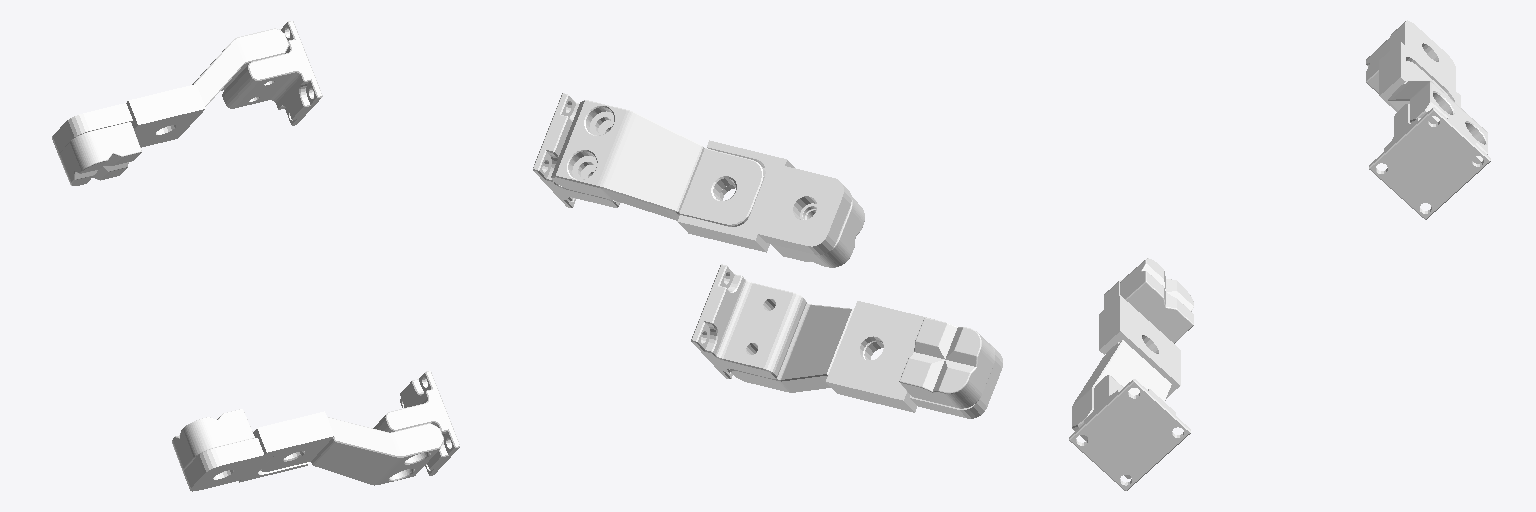
The robot description file, URDF, robot "panda":
<?xml version="1.0"?>
<!-- =================================================================================== -->
<!-- |    This document was autogenerated by xacro from panda_arm_hand.urdf.xacro      | -->
<!-- |    EDITING THIS FILE BY HAND IS NOT RECOMMENDED                                 | -->
<!-- =================================================================================== -->
<robot name="panda" xmlns:xacro="http://www.ros.org/wiki/xacro">
  <link name="panda_link0">
    <visual>
      <geometry>
        <mesh filename="meshes/meshes_franka_with_gripper_extensions/visual/link0.dae" />
      </geometry>
      <material name="panda_white">
        <color rgba="1. 1. 1. 1." />
      </material>
    </visual>
    <collision>
      <geometry>
        <mesh filename="meshes/meshes_franka_with_gripper_extensions/collision/link0.stl" />
      </geometry>
      <material name="panda_white" />
    </collision>
  </link>
  <link name="panda_link1">
    <inertial>
      <origin rpy="0 0 0" xyz="0 -0.04 -0.05" />
      <mass value="2.7" />
      <inertia ixx="0.1" ixy="0" ixz="0" iyy="0.1" iyz="0" izz="0.1" />
    </inertial>
    <visual>
      <geometry>
        <mesh filename="meshes/meshes_franka_with_gripper_extensions/visual/link1.dae" />
      </geometry>
      <material name="panda_white" />
    </visual>
    <collision>
      <geometry>
        <mesh filename="meshes/meshes_franka_with_gripper_extensions/collision/link1.stl" />
      </geometry>
      <material name="panda_white" />
    </collision>
  </link>
  <joint name="panda_joint1" type="revolute">
    <safety_controller k_position="100.0" k_velocity="40.0" soft_lower_limit="-2.8973"
      soft_upper_limit="2.8973" />
    <origin rpy="0 0 0" xyz="0 0 0.333" />
    <parent link="panda_link0" />
    <child link="panda_link1" />
    <axis xyz="0 0 1" />
    <limit effort="87" lower="-2.8973" upper="2.8973" velocity="2.1750" />
  </joint>
  <link name="panda_link2">
    <inertial>
      <origin rpy="0 0 0" xyz="0 -0.04 0.06" />
      <mass value="2.73" />
      <inertia ixx="0.1" ixy="0" ixz="0" iyy="0.1" iyz="0" izz="0.1" />
    </inertial>
    <visual>
      <geometry>
        <mesh filename="meshes/meshes_franka_with_gripper_extensions/visual/link2.dae" />
      </geometry>
      <material name="panda_white" />
    </visual>
    <collision>
      <geometry>
        <mesh filename="meshes/meshes_franka_with_gripper_extensions/collision/link2.stl" />
      </geometry>
      <material name="panda_white" />
    </collision>
  </link>
  <joint name="panda_joint2" type="revolute">
    <safety_controller k_position="100.0" k_velocity="40.0" soft_lower_limit="-1.7628"
      soft_upper_limit="1.7628" />
    <origin rpy="-1.57079632679 0 0" xyz="0 0 0" />
    <parent link="panda_link1" />
    <child link="panda_link2" />
    <axis xyz="0 0 1" />
    <limit effort="87" lower="-1.7628" upper="1.7628" velocity="2.1750" />
  </joint>
  <link name="panda_link3">
    <inertial>
      <origin rpy="0 0 0" xyz="0.01 0.01 -0.05" />
      <mass value="2.04" />
      <inertia ixx="0.1" ixy="0" ixz="0" iyy="0.1" iyz="0" izz="0.1" />
    </inertial>
    <visual>
      <geometry>
        <mesh filename="meshes/meshes_franka_with_gripper_extensions/visual/link3.dae" />
      </geometry>
      <material name="panda_red">
        <color rgba="1. 1. 1. 1." />
      </material>
    </visual>
    <collision>
      <geometry>
        <mesh filename="meshes/meshes_franka_with_gripper_extensions/collision/link3.stl" />
      </geometry>
    </collision>
  </link>
  <joint name="panda_joint3" type="revolute">
    <safety_controller k_position="100.0" k_velocity="40.0" soft_lower_limit="-2.8973"
      soft_upper_limit="2.8973" />
    <origin rpy="1.57079632679 0 0" xyz="0 -0.316 0" />
    <parent link="panda_link2" />
    <child link="panda_link3" />
    <axis xyz="0 0 1" />
    <limit effort="87" lower="-2.8973" upper="2.8973" velocity="2.1750" />
  </joint>
  <link name="panda_link4">
    <inertial>
      <origin rpy="0 0 0" xyz="-0.03 0.03 0.02" />
      <mass value="2.08" />
      <inertia ixx="0.1" ixy="0" ixz="0" iyy="0.1" iyz="0" izz="0.1" />
    </inertial>
    <visual>
      <geometry>
        <mesh filename="meshes/meshes_franka_with_gripper_extensions/visual/link4.dae" />
      </geometry>
      <material name="panda_white" />
    </visual>
    <collision>
      <geometry>
        <mesh filename="meshes/meshes_franka_with_gripper_extensions/collision/link4.stl" />
      </geometry>
      <material name="panda_white" />
    </collision>
  </link>
  <joint name="panda_joint4" type="revolute">
    <safety_controller k_position="100.0" k_velocity="40.0" soft_lower_limit="-3.0718"
      soft_upper_limit="-0.0698" />
    <origin rpy="1.57079632679 0 0" xyz="0.0825 0 0" />
    <parent link="panda_link3" />
    <child link="panda_link4" />
    <axis xyz="0 0 1" />
    <limit effort="87" lower="-3.0718" upper="-0.0698" velocity="2.1750" />
  </joint>
  <link name="panda_link5">
    <inertial>
      <origin rpy="0 0 0" xyz="0 0.04 -0.12" />
      <mass value="3" />
      <inertia ixx="0.1" ixy="0" ixz="0" iyy="0.1" iyz="0" izz="0.1" />
    </inertial>
    <visual>
      <geometry>
        <mesh filename="meshes/meshes_franka_with_gripper_extensions/visual/link5.dae" />
      </geometry>
      <material name="panda_white" />
    </visual>
    <collision>
      <geometry>
        <mesh filename="meshes/meshes_franka_with_gripper_extensions/collision/link5.stl" />
      </geometry>
      <material name="panda_white" />
    </collision>
  </link>
  <joint name="panda_joint5" type="revolute">
    <safety_controller k_position="100.0" k_velocity="40.0" soft_lower_limit="-2.8975"
      soft_upper_limit="2.8975" />
    <origin rpy="-1.57079632679 0 0" xyz="-0.0825 0.384 0" />
    <parent link="panda_link4" />
    <child link="panda_link5" />
    <axis xyz="0 0 1" />
    <limit effort="12" lower="-2.8975" upper="2.8975" velocity="2.6100" />
  </joint>
  <link name="panda_link6">
    <inertial>
      <origin rpy="0 0 0" xyz="0.04 0 0" />
      <mass value="1.3" />
      <inertia ixx="0.1" ixy="0" ixz="0" iyy="0.1" iyz="0" izz="0.1" />
    </inertial>
    <visual>
      <geometry>
        <mesh filename="meshes/meshes_franka_with_gripper_extensions/visual/link6.dae" />
      </geometry>
      <material name="panda_white" />
    </visual>
    <collision>
      <geometry>
        <mesh filename="meshes/meshes_franka_with_gripper_extensions/collision/link6.stl" />
      </geometry>
      <material name="panda_white" />
    </collision>
  </link>
  <joint name="panda_joint6" type="revolute">
    <safety_controller k_position="100.0" k_velocity="40.0" soft_lower_limit="-0.0175"
      soft_upper_limit="3.7525" />
    <origin rpy="1.57079632679 0 0" xyz="0 0 0" />
    <parent link="panda_link5" />
    <child link="panda_link6" />
    <axis xyz="0 0 1" />
    <limit effort="12" lower="-0.0175" upper="3.7525" velocity="2.6100" />
  </joint>
  <link name="panda_link7">
    <inertial>
      <origin rpy="0 0 0" xyz="0 0 0.08" />
      <mass value=".2" />
      <inertia ixx="0.1" ixy="0" ixz="0" iyy="0.1" iyz="0" izz="0.1" />
    </inertial>
    <visual>
      <geometry>
        <mesh filename="meshes/meshes_franka_with_gripper_extensions/visual/link7.dae" />
      </geometry>
      <material name="panda_white" />
    </visual>
    <collision>
      <geometry>
        <mesh filename="meshes/meshes_franka_with_gripper_extensions/collision/link7.stl" />
      </geometry>
      <material name="panda_white" />
    </collision>
  </link>
  <joint name="panda_joint7" type="revolute">
    <safety_controller k_position="100.0" k_velocity="40.0" soft_lower_limit="-2.8973"
      soft_upper_limit="2.8973" />
    <origin rpy="1.57079632679 0 0" xyz="0.088 0 0" />
    <parent link="panda_link6" />
    <child link="panda_link7" />
    <axis xyz="0 0 1" />
    <limit effort="12" lower="-2.8973" upper="2.8973" velocity="2.6100" />
  </joint>
  <link name="panda_link8">
    <inertial>
      <origin rpy="0 0 0" xyz="0 0 0" />
      <mass value="0.0" />
      <inertia ixx="0.1" ixy="0" ixz="0" iyy="0.1" iyz="0" izz="0.1" />
    </inertial>
    <!-- <visual>
      <geometry>
        <mesh filename="meshes/meshes_franka_with_gripper_extensions/collision/camera.stl" />
      </geometry>
      <material name="panda_white" />
    </visual>
    <collision>
      <geometry>
        <mesh filename="meshes/meshes_franka_with_gripper_extensions/collision/camera.stl" />
      </geometry>
      <material name="panda_white" />
    </collision> -->
  </link>
  <joint name="panda_joint8" type="fixed">
    <origin rpy="0 0 -0.785398163397" xyz="0 0 0.107" />
    <parent link="panda_link7" />
    <child link="panda_link8" />
    <axis xyz="0 0 0" />
  </joint>
  <joint name="panda_hand_joint" type="fixed">
    <parent link="panda_link8" />
    <child link="panda_hand" />
    <origin rpy="0 0 0" xyz="0 0 0.006" />
  </joint>
  <link name="panda_hand">
    <inertial>
      <origin rpy="0 0 0" xyz="0 0 0.04" />
      <mass value=".81" />
      <inertia ixx="0.1" ixy="0" ixz="0" iyy="0.1" iyz="0" izz="0.1" />
    </inertial>
    <visual>
      <geometry>
        <mesh filename="meshes/meshes_franka_with_gripper_extensions/visual/hand.dae" />
      </geometry>
      <material name="panda_white" />
    </visual>
    <collision>
      <geometry>
        <mesh filename="meshes/meshes_franka_with_gripper_extensions/collision/hand.stl" />
      </geometry>
      <material name="panda_white" />
    </collision>
  </link>
  <link name="panda_leftfinger">
    <contact>
      <friction_anchor />
      <stiffness value="30000.0" />
      <damping value="1000.0" />
      <spinning_friction value="0.1" />
      <lateral_friction value="1.0" />
    </contact>
    <inertial>
      <origin rpy="0 0 0" xyz="0 0.01 0.02" />
      <mass value="0.1" />
      <inertia ixx="0.1" ixy="0" ixz="0" iyy="0.1" iyz="0" izz="0.1" />
    </inertial>
    <visual>
      <geometry>
        <mesh filename="meshes/meshes_franka_with_gripper_extensions/collision/finger.stl" />
      </geometry>
      <material name="panda_white" />
    </visual>
    <collision>
      <geometry>
        <mesh filename="meshes/meshes_franka_with_gripper_extensions/collision/finger.stl" />
      </geometry>
      <material name="panda_white" />
    </collision>
  </link>
  <link name="panda_rightfinger">
    <contact>
      <friction_anchor />
      <stiffness value="30000.0" />
      <damping value="1000.0" />
      <spinning_friction value="0.1" />
      <lateral_friction value="1.0" />
    </contact>

    <inertial>
      <origin rpy="0 0 0" xyz="0 -0.01 0.02" />
      <mass value="0.1" />
      <inertia ixx="0.1" ixy="0" ixz="0" iyy="0.1" iyz="0" izz="0.1" />
    </inertial>
    <visual>
      <origin rpy="0 0 3.14159265359" xyz="0 0 0" />
      <geometry>
        <mesh filename="meshes/meshes_franka_with_gripper_extensions/collision/finger.stl" />
      </geometry>
      <material name="panda_white" />
    </visual>
    <collision>
      <origin rpy="0 0 3.14159265359" xyz="0 0 0" />
      <geometry>
        <mesh filename="meshes/meshes_franka_with_gripper_extensions/collision/finger.stl" />
      </geometry>
      <material name="panda_white" />
    </collision>
  </link>
  <joint name="panda_finger_joint1" type="prismatic">
    <parent link="panda_hand" />
    <child link="panda_leftfinger" />
    <origin rpy="0 -1.5708 1.5708" xyz="0 0.04 0.1264" />
    <axis xyz="0 0 1"/>
    <limit effort="20" lower="0.0" upper="0.04" velocity="0.2"/>
  </joint>
  <joint name="panda_finger_joint2" type="prismatic">
    <parent link="panda_hand" />
    <child link="panda_rightfinger" />
    <origin rpy="0 1.5708 1.5708" xyz="0 -0.04 0.1264" />
    <!--<mimic joint="panda_finger_joint1" multiplier="1" />-->
    <limit effort="20" lower="0.0" upper="0.04" velocity="0.2"/>
    <axis xyz="0 0 1"/>
  </joint>
  <link name="right_gripper">
    <inertial>
      <!-- Dummy inertial parameters to avoid link lumping-->
      <mass value="0.01" />
      <inertia ixx="0.0001" ixy="0.0" ixz="0.0" iyy="0.0001" iyz="0.0" izz="0.0001" />
      <origin rpy="0 0 0" xyz="0 0 0" />
    </inertial>
  </link>
  <joint name="right_gripper" type="fixed">
    <origin rpy="0 0 2.35619449019" xyz="0 0 0.1" />
    <axis xyz="0 0 1" />
    <parent link="panda_link8" />
    <child link="right_gripper" />
  </joint>
  <link name="panda_grasptarget">
    <inertial>
      <origin rpy="0 0 0" xyz="0 0 0" />
      <mass value="0.0" />
      <inertia ixx="0.1" ixy="0" ixz="0" iyy="0.1" iyz="0" izz="0.1" />
    </inertial>
  </link>
  <joint name="panda_grasptarget_hand" type="fixed">
    <parent link="panda_hand" />
    <child link="panda_grasptarget" />
    <origin rpy="0 0 0" xyz="0 0 0.1264" />
  </joint>

</robot>

--- What the picture shows (computed from the rendered views, not written in the file) ---
Views: 3 orthographic renders of the robot side by side, from view 1: azimuth 30°, elevation 25°; view 2: azimuth 150°, elevation 25°; view 3: azimuth 270°, elevation 25°.
Model panda with 14 links and 13 joints (7 revolute, 2 prismatic, 4 fixed), rooted at panda_link0, posed joints at zero except 1 at the middle of their limits (panda_joint4 = -1.57).
Visible links, largest first — view 1: panda_leftfinger, panda_rightfinger; view 2: panda_rightfinger, panda_leftfinger; view 3: panda_leftfinger, panda_rightfinger.
Boxes of the visible links, x1,y1,x2,y2 form: panda_leftfinger: (172,371,459,491); panda_rightfinger: (52,21,322,185); panda_rightfinger: (533,93,864,267); panda_leftfinger: (691,264,1002,418); panda_leftfinger: (1069,258,1193,490); panda_rightfinger: (1366,20,1490,219).
Bounding box of the posed robot: 0.077 × 0.1087 × 0.1087 m (x, y, z).
Meshes: 10 distinct files referenced, 2 mesh visuals loaded (1 binary STL); not drawn: 9 (reference not matched to a file when rendering).